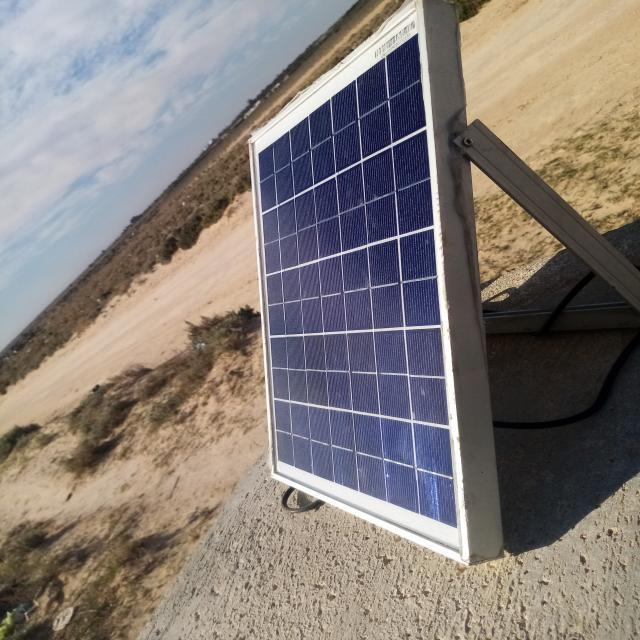Normal Solar Panel: (250, 8, 470, 562)
